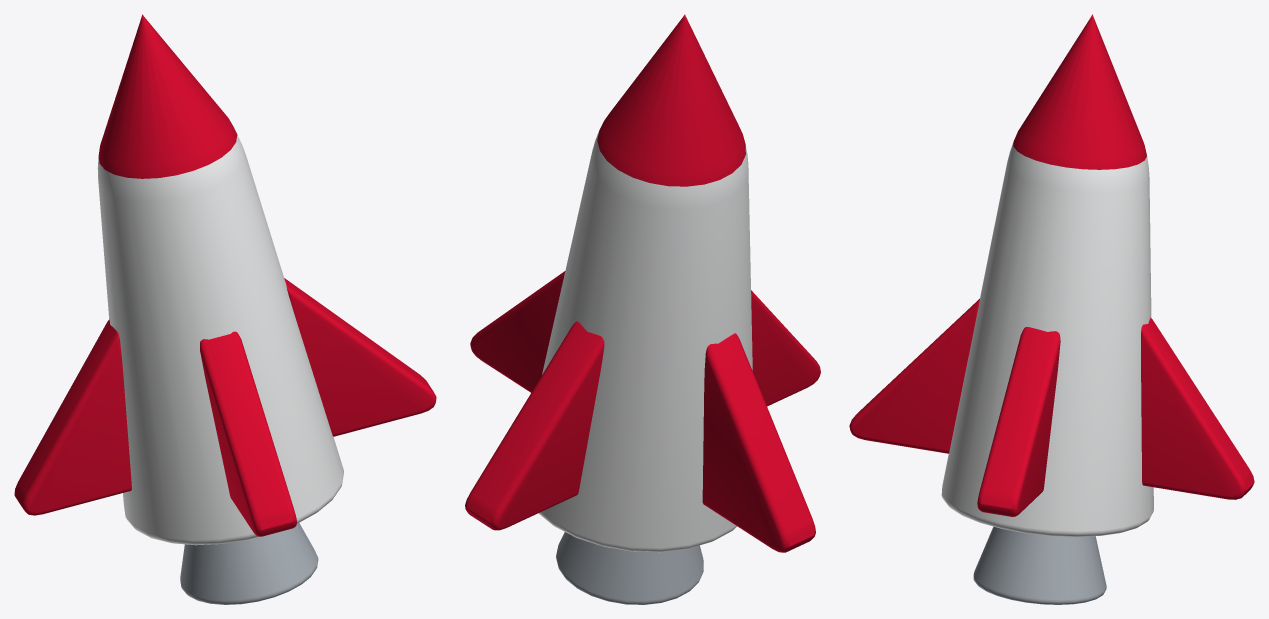
The model's file is right_leg.glb.
The picture shows the model from 3 angles, left to right: view 1: azimuth 30°, elevation 25°; view 2: azimuth 150°, elevation 25°; view 3: azimuth 270°, elevation 25°; orthographic projection. The views are drawn at different scales.
Parts seen in each view (by area): view 1: Cylinder.005; view 2: Cylinder.005; view 3: Cylinder.005.
Part boxes in pixels (box(x1,y1,x2,y2)): Cylinder.005: box(14, 14, 436, 604); Cylinder.005: box(465, 14, 820, 604); Cylinder.005: box(849, 14, 1254, 604).
Size of the model in its own units: 0.7286 by 1.09 by 0.7342.
